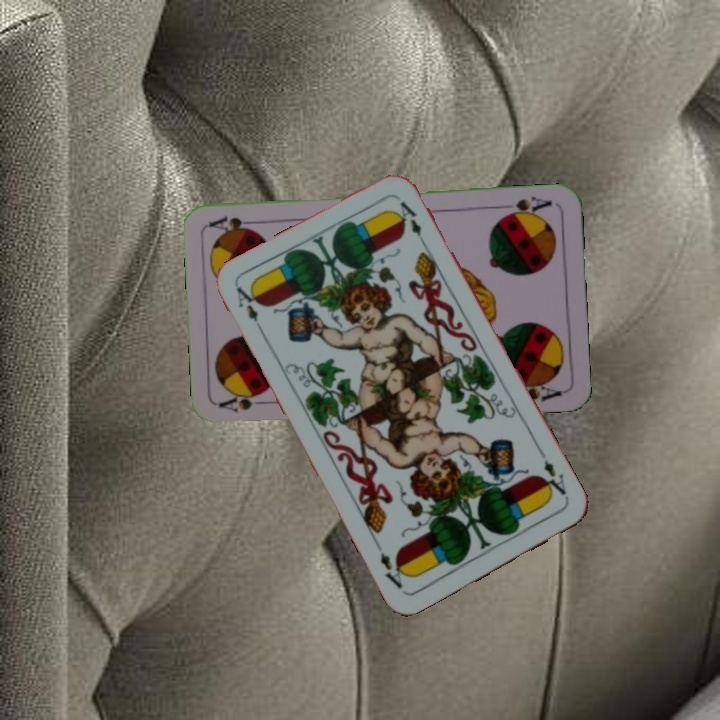EA: (232, 282, 267, 338), (536, 455, 572, 502)
SA: (497, 192, 555, 220), (216, 390, 275, 416)
